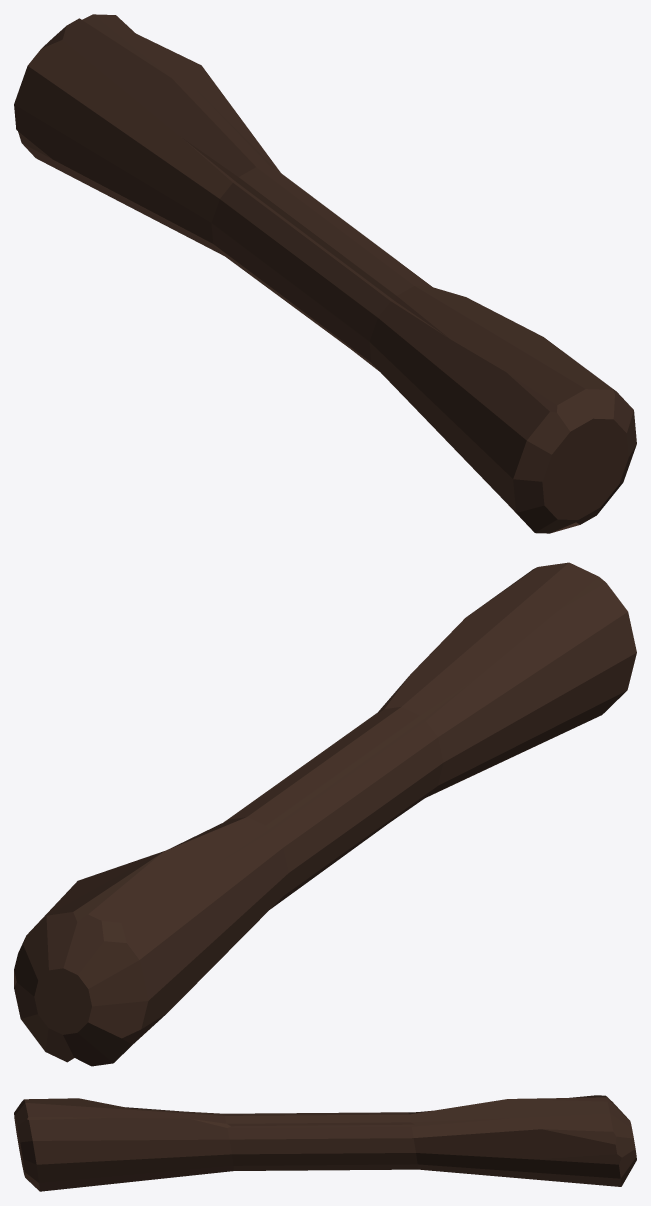
The model's file is Witch_branch_Horizontal.fbx.
3 renders of one model, top to bottom at view 1: azimuth 30°, elevation 25°; view 2: azimuth 150°, elevation 25°; view 3: azimuth 270°, elevation 25°, orthographic. The views are drawn at different scales.
Visible parts, largest first — view 1: branch_Horizontal; view 2: branch_Horizontal; view 3: branch_Horizontal.
Part boxes in pixels (left/top/right/bottom): branch_Horizontal: left=14, top=14, right=636, bottom=533; branch_Horizontal: left=14, top=562, right=636, bottom=1066; branch_Horizontal: left=14, top=1095, right=636, bottom=1191.
Bounding box in the file's own units: 23.13 × 25.65 × 163.
